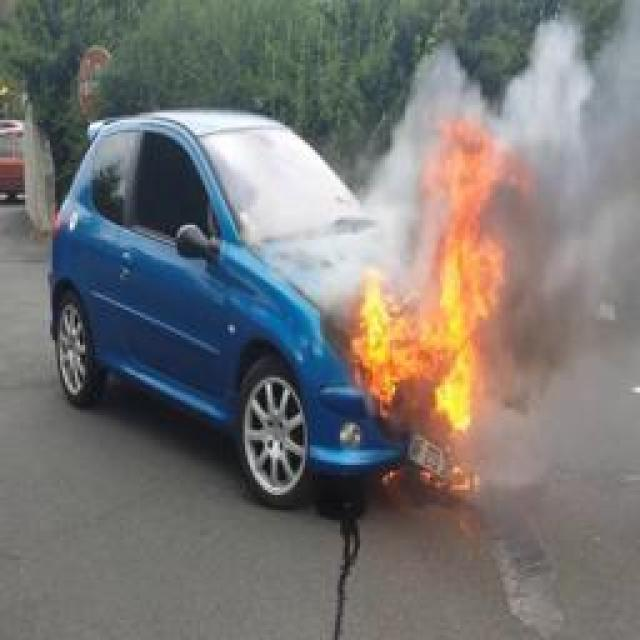Fire: (354, 119, 528, 434)
